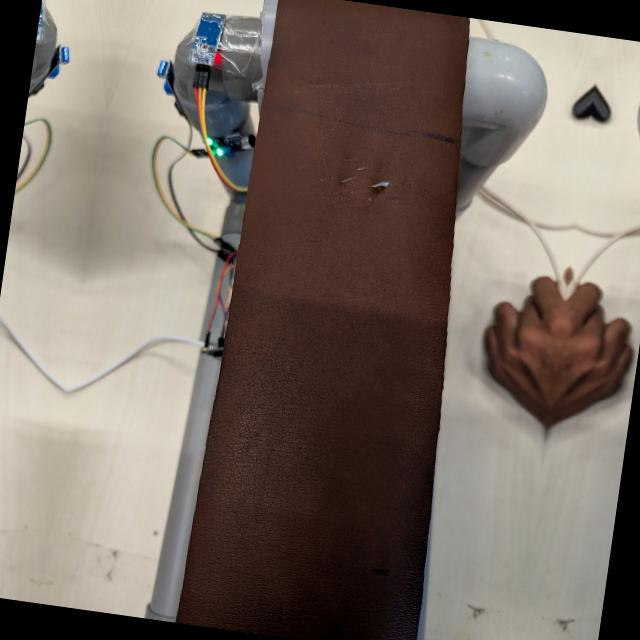belt_crack: (308, 137, 445, 228)
